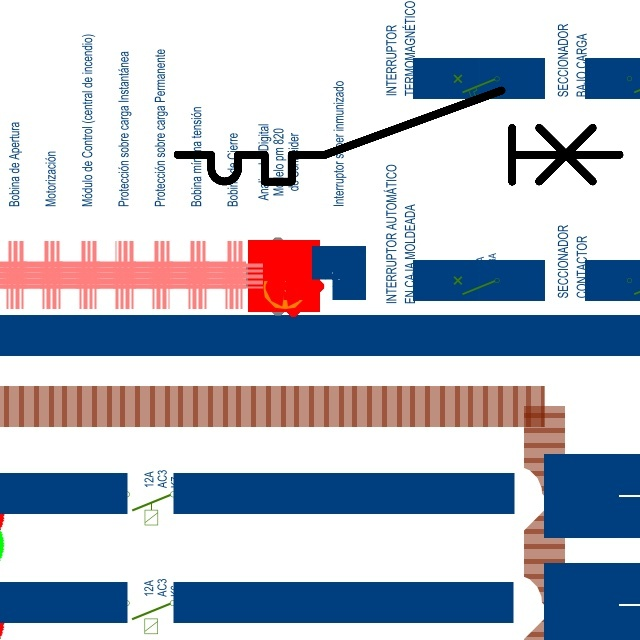interruptor_termomagnetico: (166, 79, 631, 193)
